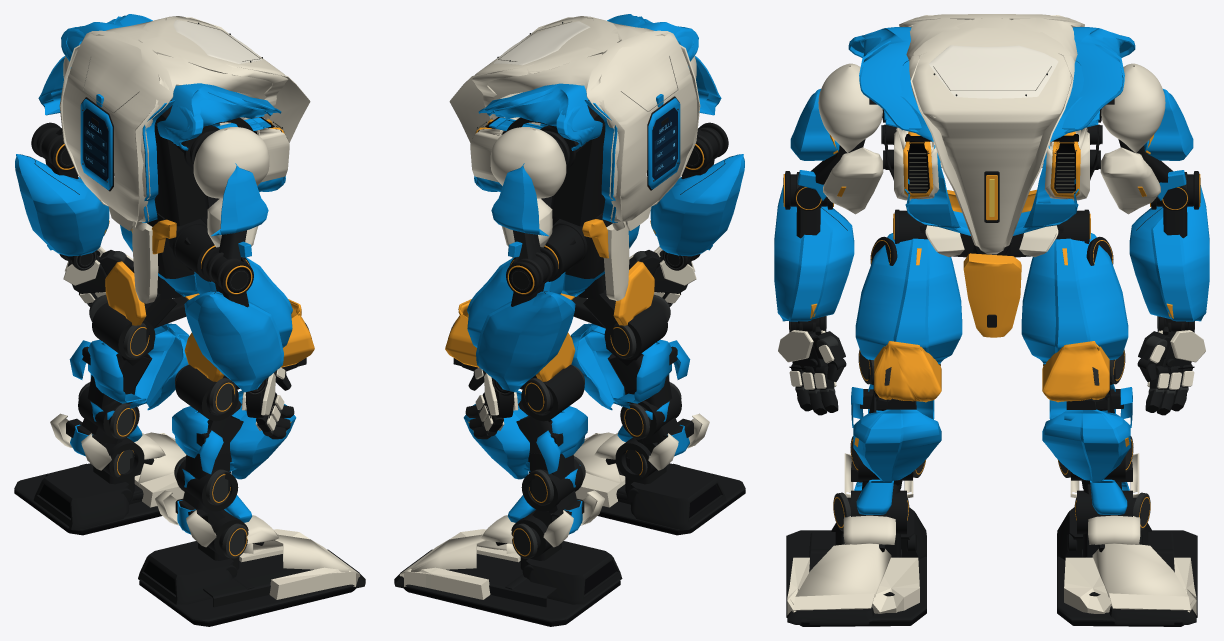
The model's file is appearance_c.glb.
The picture shows the model from 3 angles, left to right: view 1: azimuth 30°, elevation 25°; view 2: azimuth 150°, elevation 25°; view 3: azimuth 270°, elevation 25°; orthographic projection. The views are drawn at different scales.
Visible parts, largest first — view 1: continuous_ivory_torso_armor_cover, right_blue_forearm_wrap, left_blue_forearm_wrap, right_ivory_hood_window_side_lip, left_black_clipped_tall_heel, right_ivory_shoulder_cap, right_black_clipped_tall_heel, structure_spine_box, left_blue_middle_shank_wrap, right_blue_deltoid_wrap, right_blue_middle_shank_wrap, right_blue_thigh_wrap (+56 smaller); view 2: continuous_ivory_torso_armor_cover, left_blue_forearm_wrap, right_blue_forearm_wrap, left_ivory_hood_window_side_lip, right_black_clipped_tall_heel, left_ivory_shoulder_cap, left_black_clipped_tall_heel, structure_spine_box, right_blue_middle_shank_wrap, left_blue_deltoid_wrap, left_blue_middle_shank_wrap, left_blue_thigh_wrap (+56 smaller); view 3: continuous_ivory_torso_armor_cover, left_blue_thigh_wrap, right_blue_thigh_wrap, left_blue_forearm_wrap, right_blue_forearm_wrap, ivory_crown_inset, right_blue_middle_shank_wrap, left_blue_middle_shank_wrap, saffron_front_pelvis_cartridge, left_ivory_shoulder_cap, right_ivory_shoulder_cap, right_ivory_artwork_sloping_toe (+49 smaller).
Boxes of the visible parts, bbox=[...] form: continuous_ivory_torso_armor_cover: bbox=[63, 16, 288, 222]; right_blue_forearm_wrap: bbox=[184, 291, 283, 392]; left_blue_forearm_wrap: bbox=[15, 154, 109, 256]; right_ivory_hood_window_side_lip: bbox=[135, 52, 310, 230]; left_black_clipped_tall_heel: bbox=[33, 464, 129, 530]; right_ivory_shoulder_cap: bbox=[193, 127, 269, 198]; right_black_clipped_tall_heel: bbox=[138, 541, 233, 604]; structure_spine_box: bbox=[154, 124, 209, 226]; left_blue_middle_shank_wrap: bbox=[134, 323, 189, 410]; right_blue_deltoid_wrap: bbox=[211, 163, 268, 236]; right_blue_middle_shank_wrap: bbox=[230, 390, 296, 479]; right_blue_thigh_wrap: bbox=[194, 257, 292, 347]; continuous_ivory_torso_armor_cover: bbox=[471, 16, 696, 222]; left_blue_forearm_wrap: bbox=[476, 291, 575, 392]; right_blue_forearm_wrap: bbox=[650, 154, 744, 256]; left_ivory_hood_window_side_lip: bbox=[449, 52, 624, 230]; right_black_clipped_tall_heel: bbox=[630, 464, 726, 530]; left_ivory_shoulder_cap: bbox=[490, 127, 566, 198]; left_black_clipped_tall_heel: bbox=[526, 541, 622, 604]; structure_spine_box: bbox=[550, 124, 605, 226]; right_blue_middle_shank_wrap: bbox=[570, 323, 625, 410]; left_blue_deltoid_wrap: bbox=[491, 163, 548, 236]; left_blue_middle_shank_wrap: bbox=[463, 390, 529, 479]; left_blue_thigh_wrap: bbox=[467, 257, 565, 347]; continuous_ivory_torso_armor_cover: bbox=[899, 14, 1084, 254]; left_blue_thigh_wrap: bbox=[1021, 233, 1128, 364]; right_blue_thigh_wrap: bbox=[855, 233, 962, 364]; left_blue_forearm_wrap: bbox=[1129, 185, 1209, 321]; right_blue_forearm_wrap: bbox=[774, 185, 854, 321]; ivory_crown_inset: bbox=[929, 45, 1058, 98]; right_blue_middle_shank_wrap: bbox=[853, 409, 941, 481]; left_blue_middle_shank_wrap: bbox=[1042, 409, 1130, 481]; saffron_front_pelvis_cartridge: bbox=[963, 253, 1021, 337]; left_ivory_shoulder_cap: bbox=[1101, 63, 1165, 153]; right_ivory_shoulder_cap: bbox=[818, 63, 882, 153]; right_ivory_artwork_sloping_toe: bbox=[795, 543, 891, 597].
Bounding box in the file's own units: 1.07 × 2.65 × 1.93.
